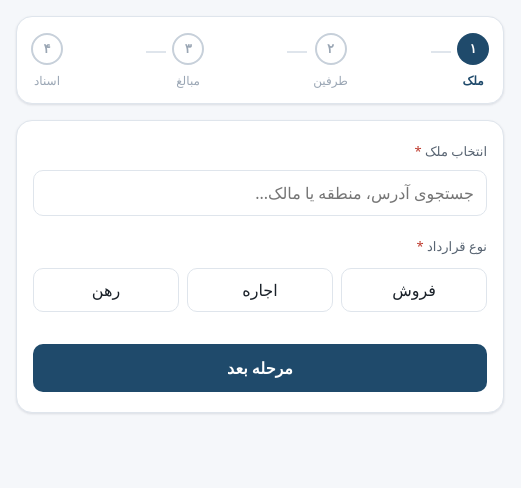
ContractWizardScreen — Step 1 › shows validation errors when next clicked without filling
This screenshot has width=521, height=488.
Click the button "مرحله بعد" at (260, 368), box [33,344,487,392]
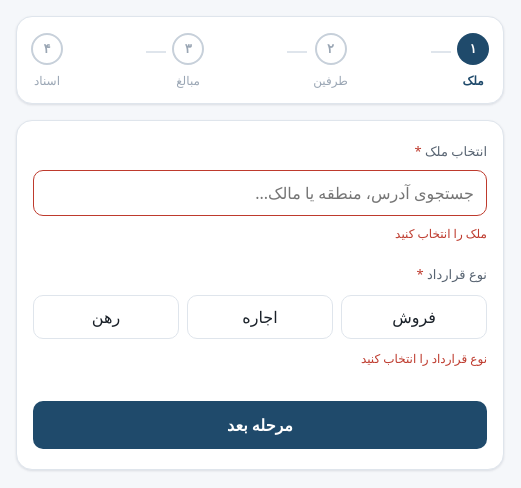
Now the text "ملک را انتخاب کنید" is shown, box [395,225,487,242]
Now the text "نوع قرارداد را انتخاب کنید" is shown, box [361,350,487,368]
